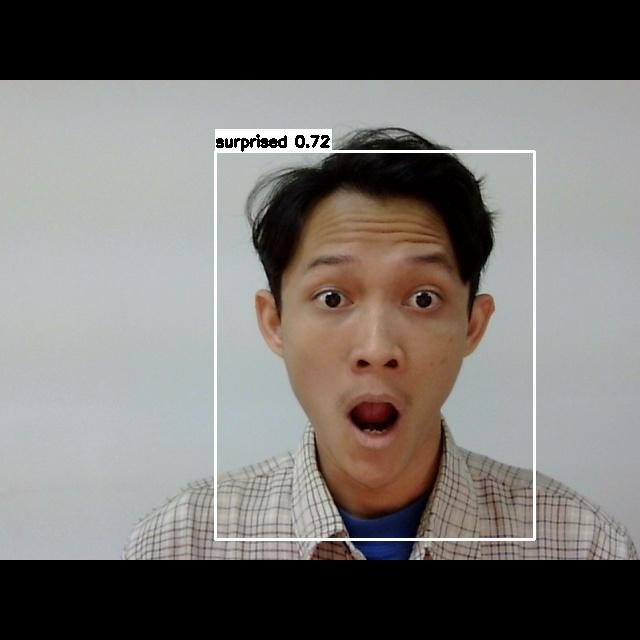Surprised: (272, 234, 489, 461)
